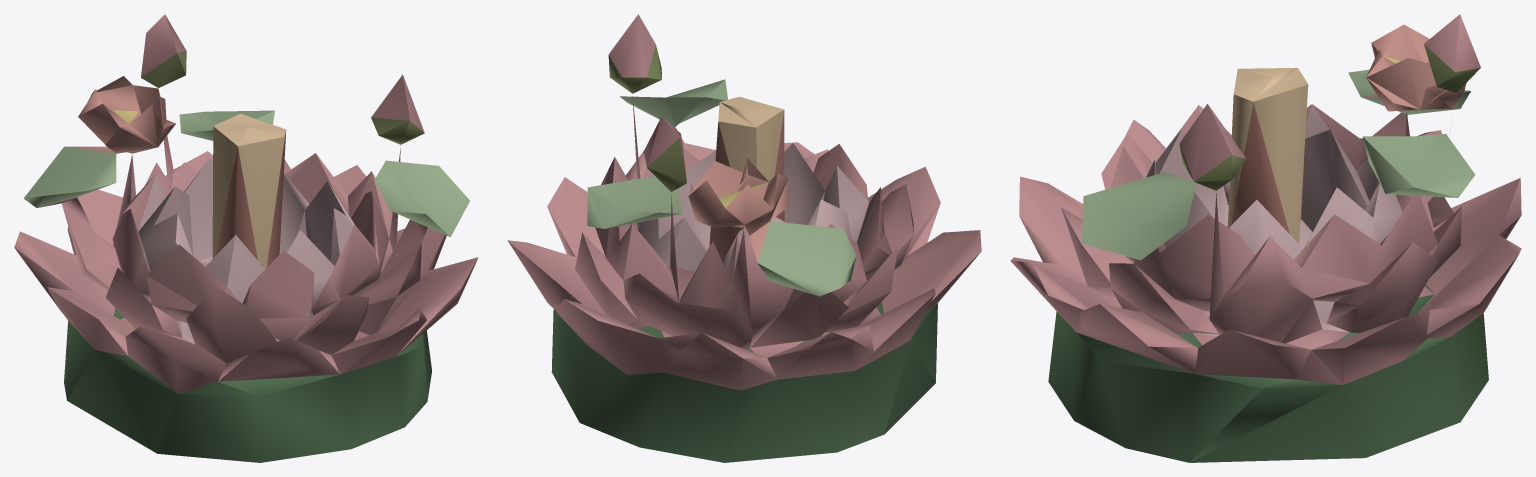
Rendered from lotus_bud_01.low.glb.
The picture shows the model from 3 angles, left to right: view 1: azimuth 30°, elevation 25°; view 2: azimuth 150°, elevation 25°; view 3: azimuth 270°, elevation 25°; orthographic projection. The views are drawn at different scales.
Size of the model in its own units: 2.15 by 1.69 by 2.14.
